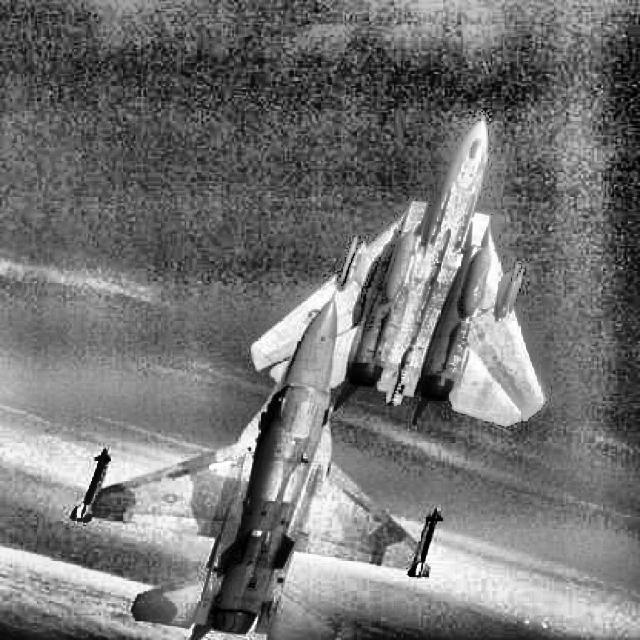F14: (250, 116, 544, 427)
F16: (71, 291, 446, 640)
